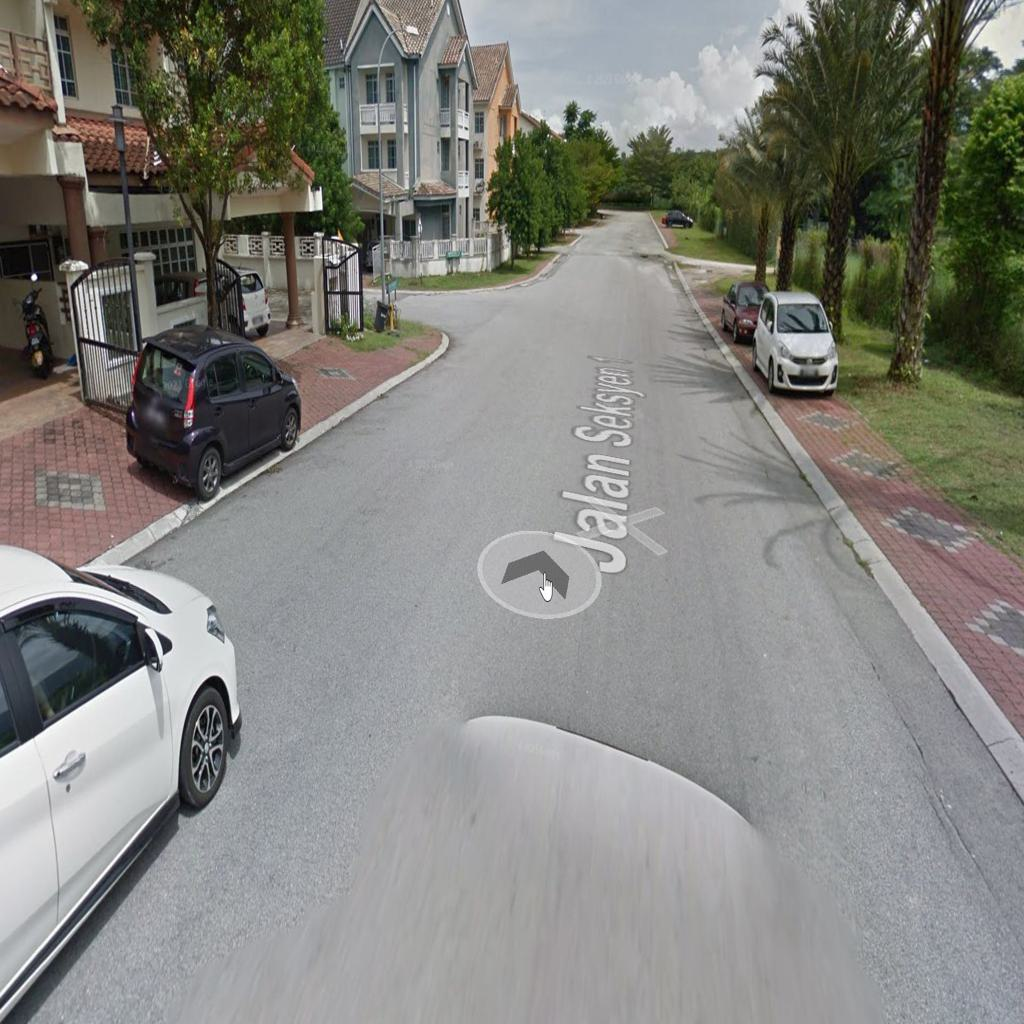Junction: (358, 232, 560, 392)
